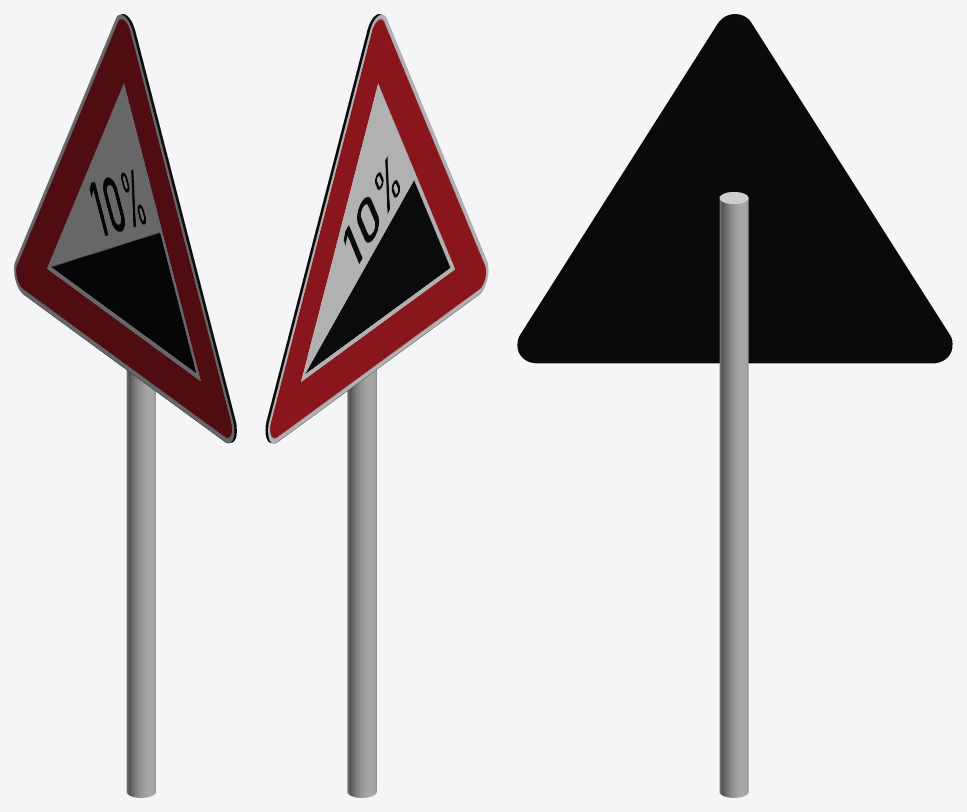
Rendered from uphill_grade_sign.dae.
3 renders of one model, left to right at view 1: azimuth 30°, elevation 25°; view 2: azimuth 150°, elevation 25°; view 3: azimuth 270°, elevation 25°, orthographic.
Visible parts, largest first — view 1: path4612, Cylinder; view 2: path4612, Cylinder; view 3: path4612, Cylinder.
Part boxes in pixels (x1=…): path4612: x1=14, y1=14, x2=236, y2=443; Cylinder: x1=126, y1=370, x2=155, y2=797; path4612: x1=265, y1=14, x2=488, y2=443; Cylinder: x1=347, y1=370, x2=376, y2=797; path4612: x1=517, y1=14, x2=952, y2=363; Cylinder: x1=719, y1=192, x2=748, y2=797.
Size of the model in its own units: 0.0115 by 0.1494 by 0.2917.
Materials: 3 (2 with a texture image).
